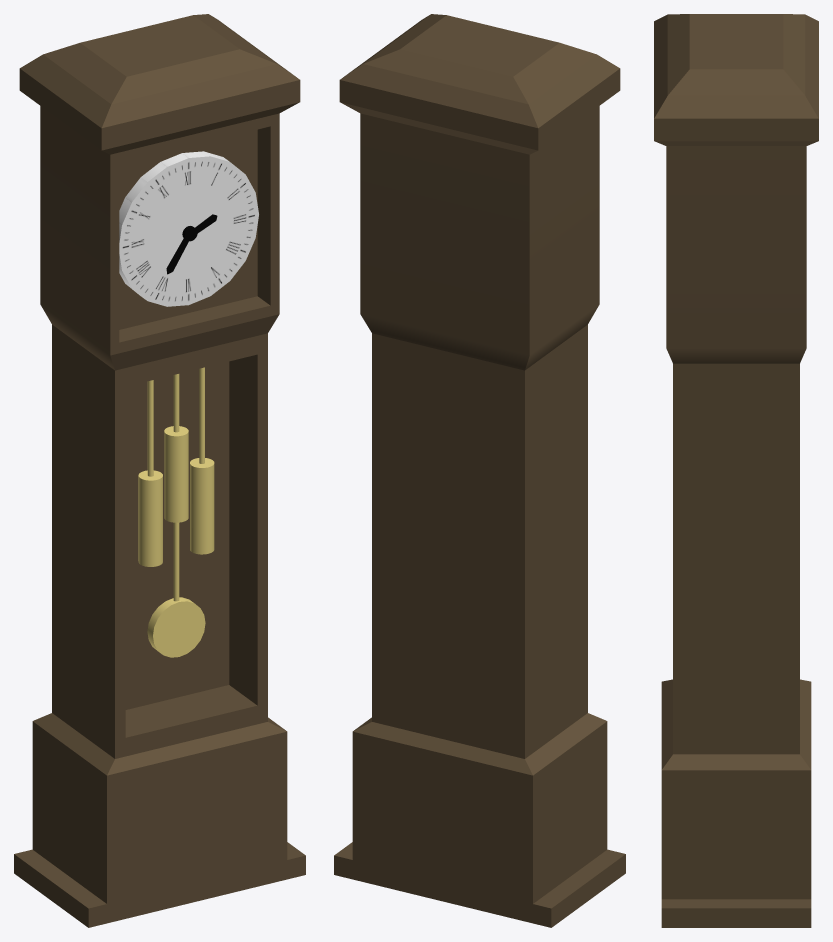
The model's file is GrandfatherClock.fbx.
The picture shows the model from 3 angles, left to right: view 1: azimuth 30°, elevation 25°; view 2: azimuth 150°, elevation 25°; view 3: azimuth 270°, elevation 25°; orthographic projection.
Visible parts, largest first — view 1: Base; view 2: Base; view 3: Base.
Boxes of the visible parts, left/top/right/bottom form: Base: left=14, top=14, right=305, bottom=927; Base: left=334, top=14, right=625, bottom=927; Base: left=654, top=14, right=818, bottom=927.
Size of the model in its own units: 169 by 616 by 110.
4 materials, 1 textured.
